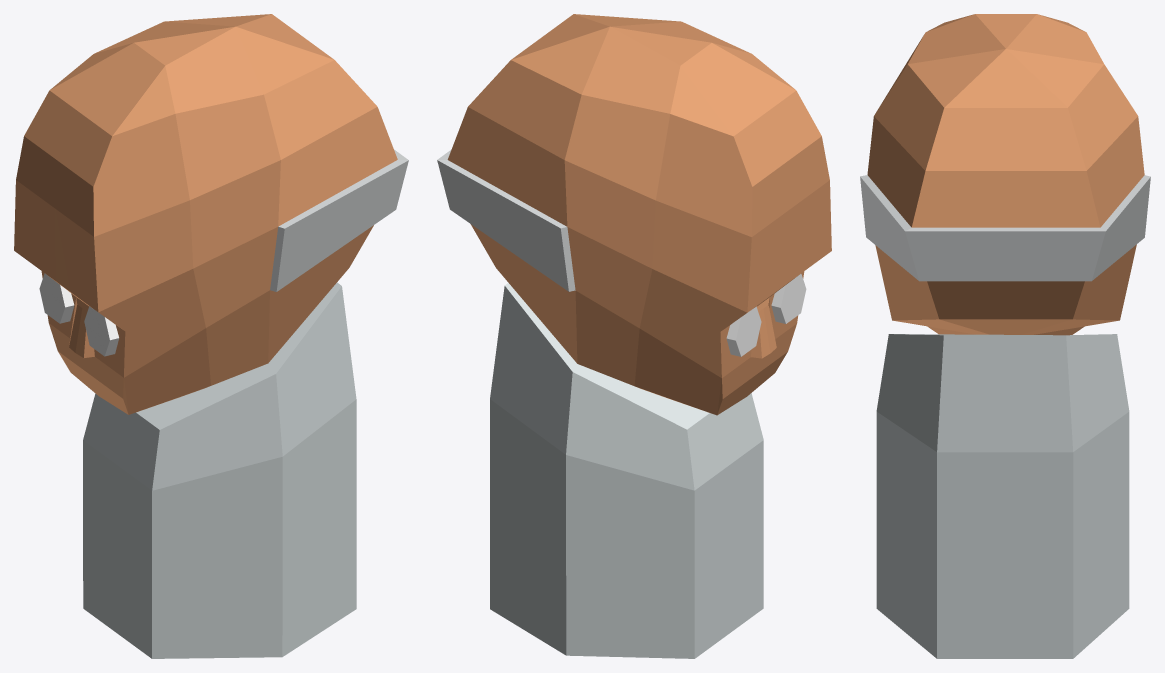
Rendered from guard2.fbx.
The picture shows the model from 3 angles, left to right: view 1: azimuth 30°, elevation 25°; view 2: azimuth 150°, elevation 25°; view 3: azimuth 270°, elevation 25°; orthographic projection.
Parts seen in each view (by area): view 1: Full; view 2: Full; view 3: Full.
Part boxes in pixels (x1,y1,x2,y2): Full: (14, 14, 408, 658); Full: (437, 14, 831, 658); Full: (860, 14, 1150, 658).
Bounding box in the file's own units: 103 × 223 × 122.
